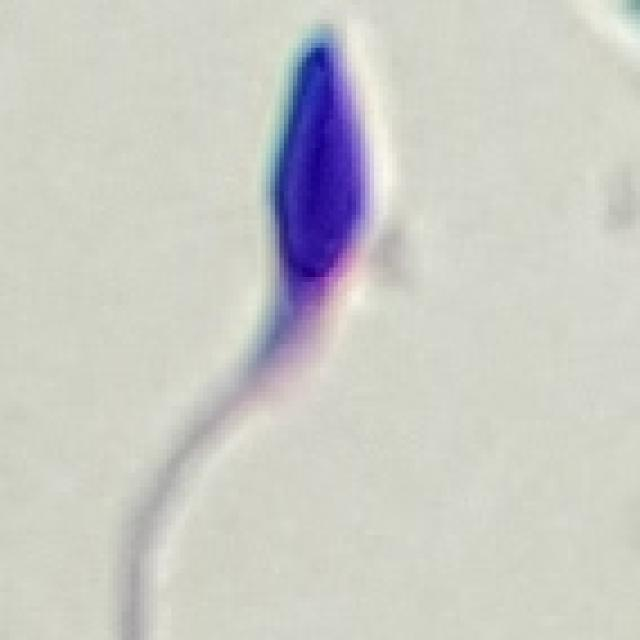abnormal sperm: (191, 28, 381, 447)
